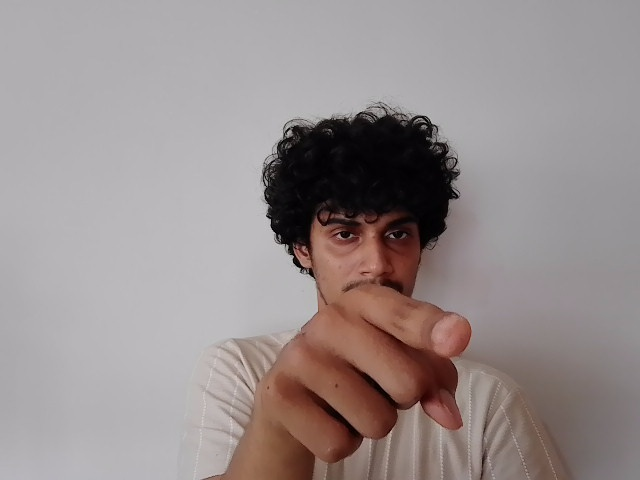you: (251, 282, 482, 464)
